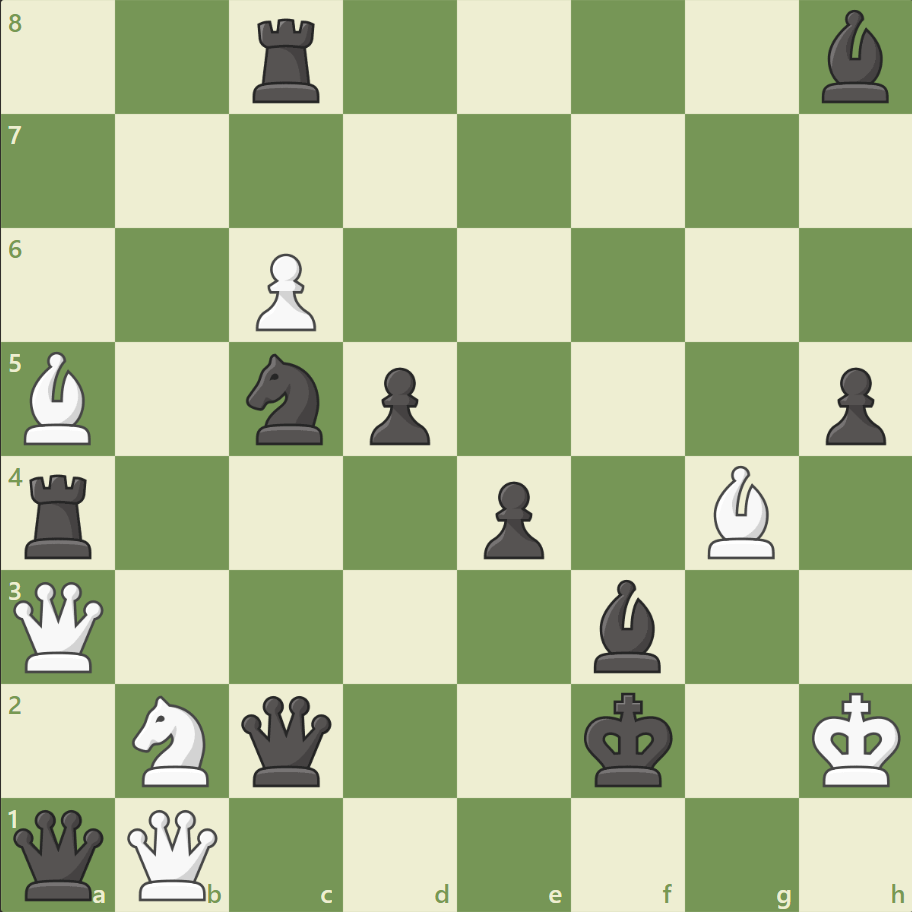B: (698, 460, 782, 563), (17, 347, 101, 449)
K: (806, 685, 906, 793)
N: (124, 688, 222, 791)
P: (247, 246, 322, 337)
Q: (10, 576, 109, 676), (124, 804, 223, 903)
b: (812, 6, 896, 109), (585, 574, 669, 676)
k: (579, 685, 679, 793)
n: (238, 348, 335, 450)
p: (474, 473, 549, 564), (361, 359, 435, 450), (815, 359, 889, 450)
q: (237, 690, 336, 789), (10, 804, 109, 903)
r: (246, 12, 329, 109), (19, 466, 102, 563)
